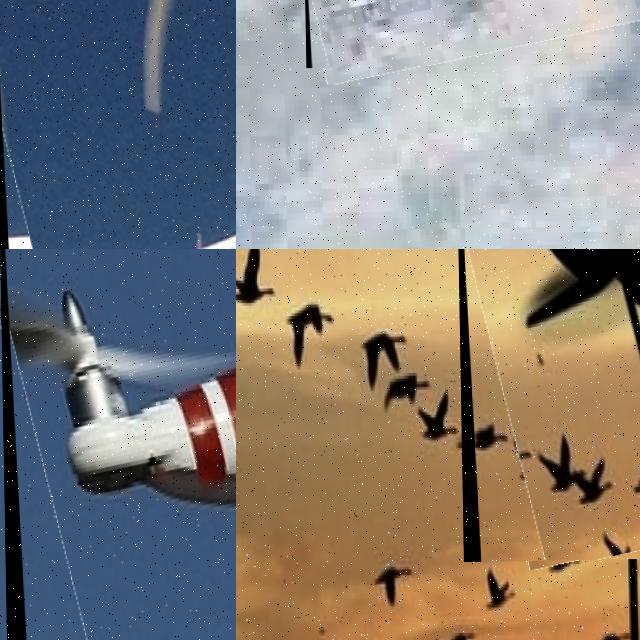drone: (0, 249, 236, 640), (0, 0, 236, 249), (455, 249, 640, 561), (303, 0, 640, 67)
